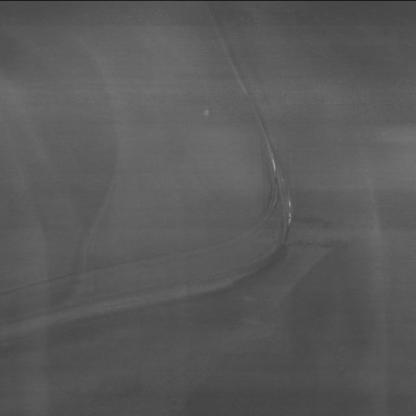crease: (94, 47, 328, 305)
